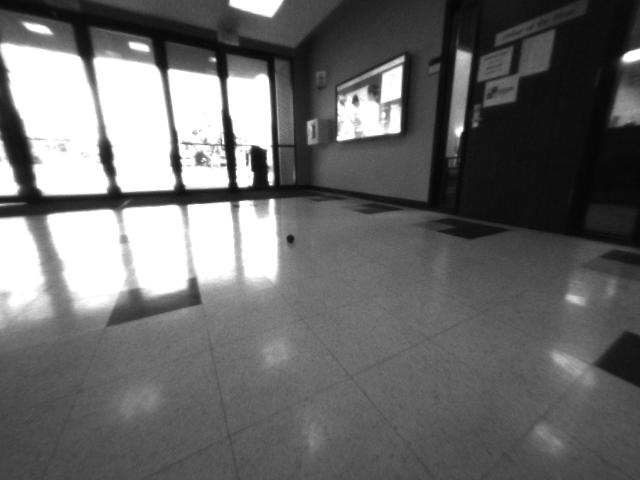dogtoy: (274, 221, 310, 252)
